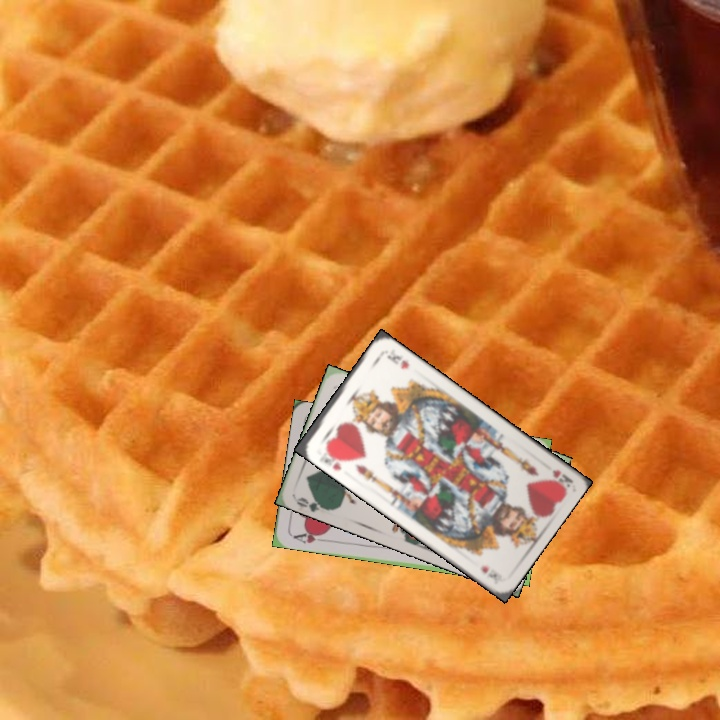GO: (292, 492, 332, 513)
HA: (289, 527, 329, 546)
HK: (320, 443, 348, 473), (548, 466, 574, 490)
